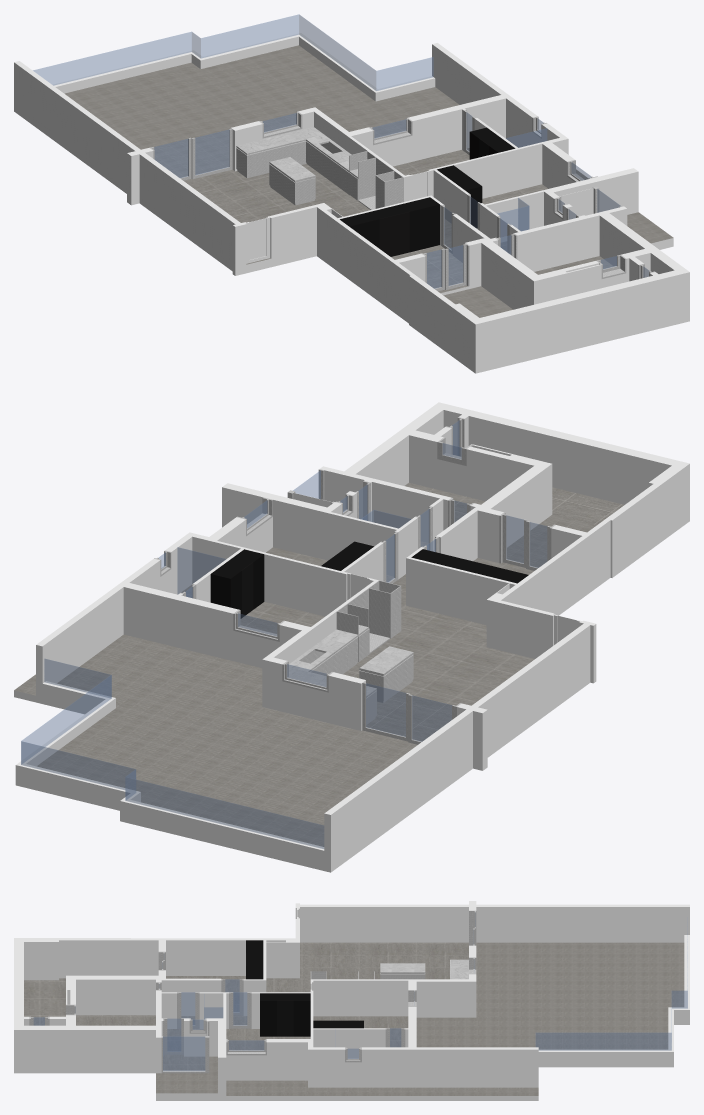
Rendered from floor_plan.glb.
3 views of the same model, one above another, from view 1: azimuth 30°, elevation 25°; view 2: azimuth 150°, elevation 25°; view 3: azimuth 270°, elevation 25° (orthographic). The views are drawn at different scales.
Visible parts, largest first — view 1: Mesh14_Material #58_0, Group1_nen_0, Group70_Material #59_0, Group1_Material #58_0, Group61_go trang_0, Group32_go trang_0, Mesh27_go trang_0, Group32_da _0, Box012, Box009, Group62_go trang_0, Box010 (+4 smaller); view 2: Mesh14_Material #58_0, Group1_nen_0, Group70_Material #59_0, Group1_Material #58_0, Group61_go trang_0, Mesh27_go trang_0, Group1_da 22_0, Group32_da _0, Group32_go trang_0, Group62_go trang_0, Box001, Box010 (+1 smaller); view 3: Mesh14_Material #58_0, Group1_nen_0, Group70_Material #59_0, Group1_Material #58_0, Group61_go trang_0, Group1_da 22_0, Group63_Material #58_0, Box010, Box008, Box005, Box007, Group62_da _0 (+3 smaller).
Boxes of the visible parts, x1,y1,x2,y2 form: Mesh14_Material #58_0: (14, 33, 689, 367); Group1_nen_0: (65, 45, 673, 317); Group70_Material #59_0: (33, 14, 648, 288); Group1_Material #58_0: (14, 103, 689, 373); Group61_go trang_0: (149, 110, 654, 291); Group32_go trang_0: (236, 141, 349, 195); Mesh27_go trang_0: (349, 151, 403, 209); Group32_da _0: (236, 127, 351, 171); Box012: (409, 204, 439, 252); Box009: (379, 211, 409, 256); Group62_go trang_0: (269, 164, 315, 205); Box010: (340, 197, 439, 226); Mesh14_Material #58_0: (15, 402, 689, 862); Group1_nen_0: (14, 482, 596, 846); Group70_Material #59_0: (21, 420, 546, 848); Group1_Material #58_0: (14, 511, 689, 872); Group61_go trang_0: (154, 417, 555, 744); Mesh27_go trang_0: (336, 580, 400, 662); Group1_da 22_0: (552, 487, 624, 525); Group32_da _0: (289, 629, 376, 697); Group32_go trang_0: (301, 637, 376, 724); Group62_go trang_0: (359, 654, 413, 702); Box001: (210, 549, 263, 607); Box010: (411, 549, 528, 583); Mesh14_Material #58_0: (14, 901, 689, 1093); Group1_nen_0: (76, 942, 684, 1095); Group70_Material #59_0: (34, 979, 687, 1070); Group1_Material #58_0: (14, 1017, 689, 1100); Group61_go trang_0: (29, 910, 476, 1073); Group1_da 22_0: (24, 978, 65, 1025); Group63_Material #58_0: (266, 942, 285, 978); Box010: (246, 940, 263, 979); Box008: (293, 1000, 310, 1036); Box005: (277, 1000, 293, 1036); Box007: (260, 1000, 276, 1036); Group62_da _0: (380, 963, 425, 973).
Bounding box in the file's own units: 519 × 115 × 946.
Materials: 8 (4 with a texture image).
